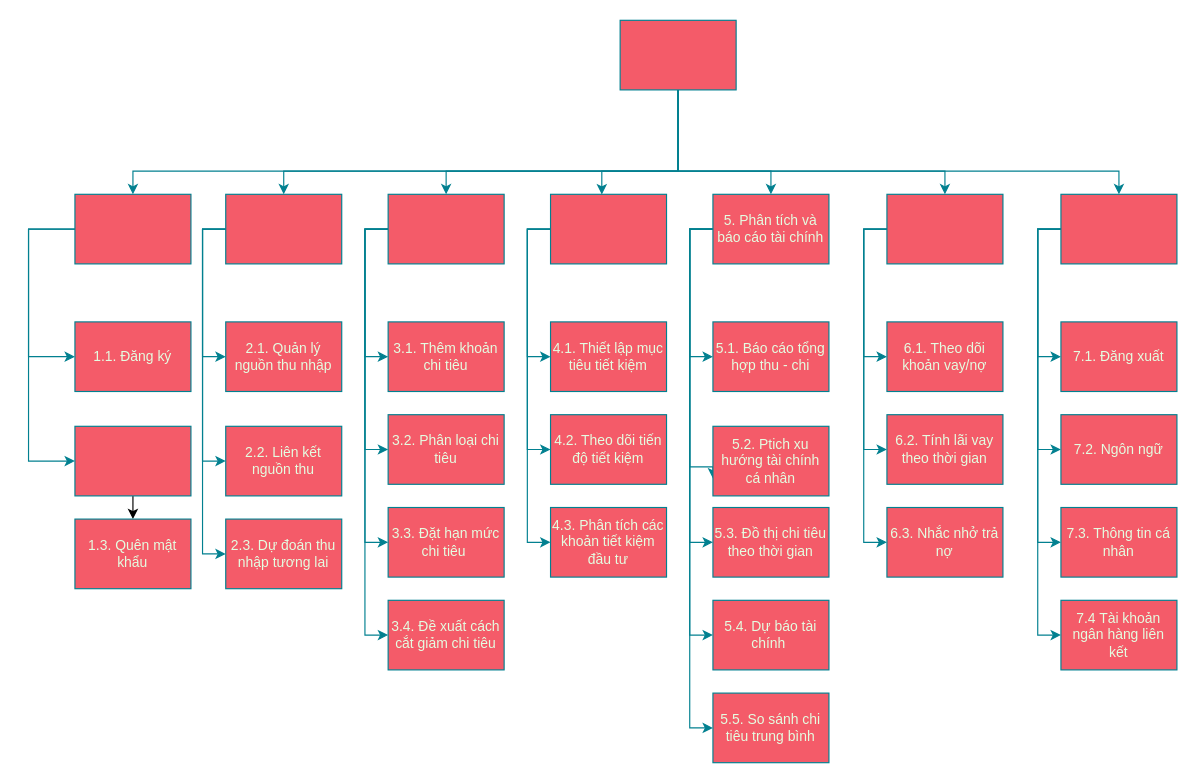
Image size: 1197x783. Some labels were removed from this diagram. Here are the shapes that lost their labels. From the top down, the centre of each, then its label:
(x=677, y=54): Hệ thống quản lý chi tiêu cá nhân
(x=132, y=228): 1. Truy cập
(x=283, y=228): 2. Quản lý thu nhập
(x=445, y=228): 3. Quản lý chi tiêu
(x=608, y=228): 4. Quản lý tiết kiệm
(x=944, y=228): 6. Quản lý vay và nợ
(x=1118, y=228): 7. Cài đặt
(x=132, y=460): 1.2.Đăng nhập
